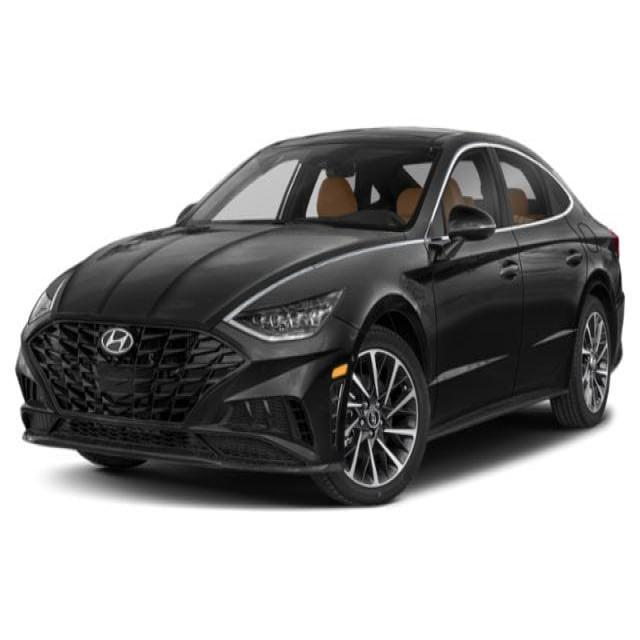pickup: (14, 122, 625, 506)
